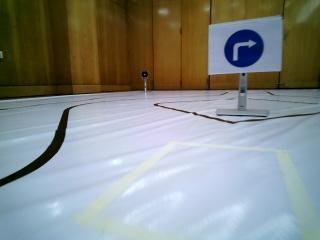right: (213, 23, 277, 70)
